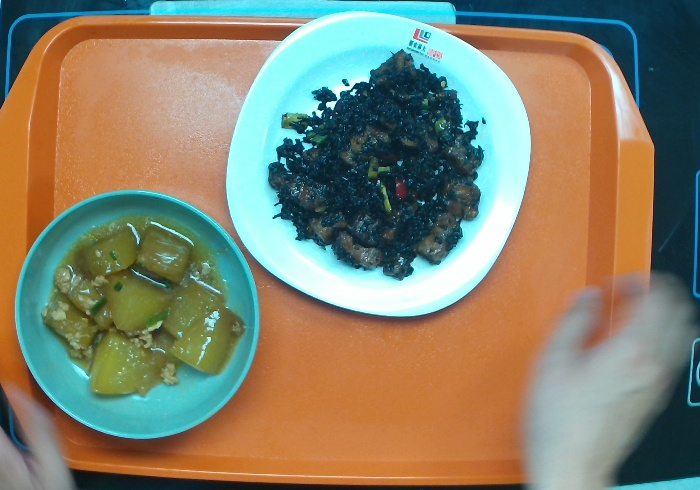ZNLD-Qing_Hua_Yuan_Wan: (10, 186, 260, 444)
ZNLD-Yuan_Jiao_Pan: (222, 7, 534, 321)
